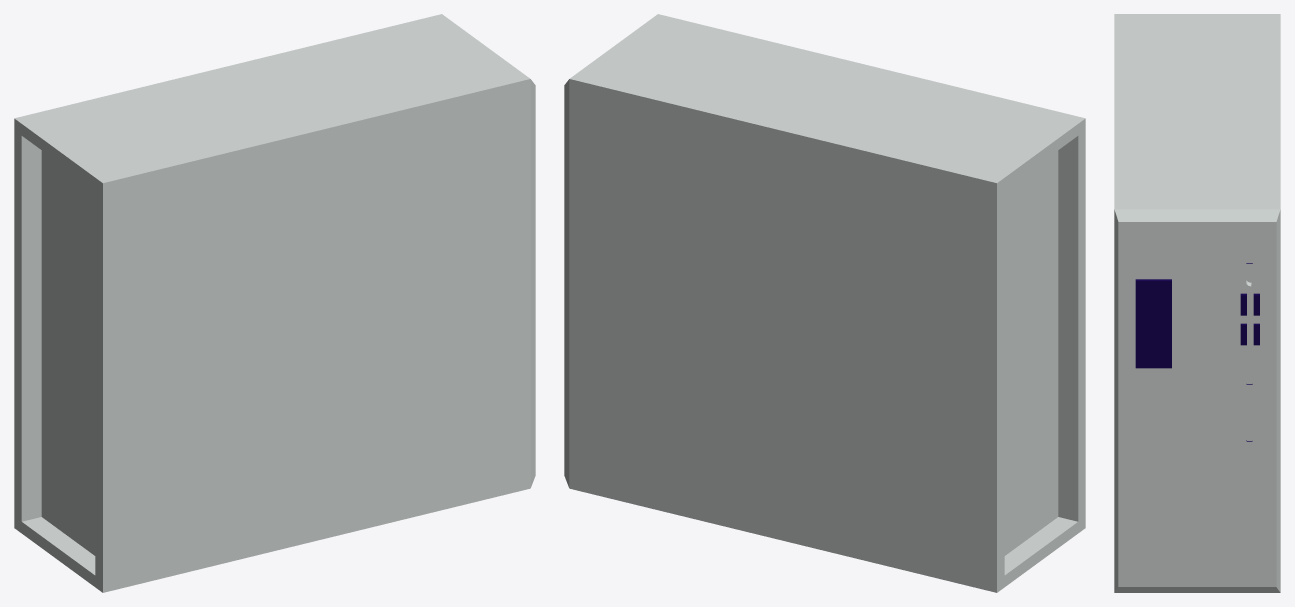
File: Gabinete.fbx
The picture shows the model from 3 angles, left to right: view 1: azimuth 30°, elevation 25°; view 2: azimuth 150°, elevation 25°; view 3: azimuth 270°, elevation 25°; orthographic projection. The views are drawn at different scales.
Visible parts, largest first — view 1: Cube; view 2: Cube; view 3: Cube, Cube.001.
Part boxes in pixels (bbox=[...]): Cube: bbox=[14, 14, 535, 592]; Cube: bbox=[564, 14, 1085, 592]; Cube: bbox=[1114, 14, 1280, 592]; Cube.001: bbox=[1135, 263, 1259, 441].
Size of the model in its own units: 181 by 162 by 63.56.
